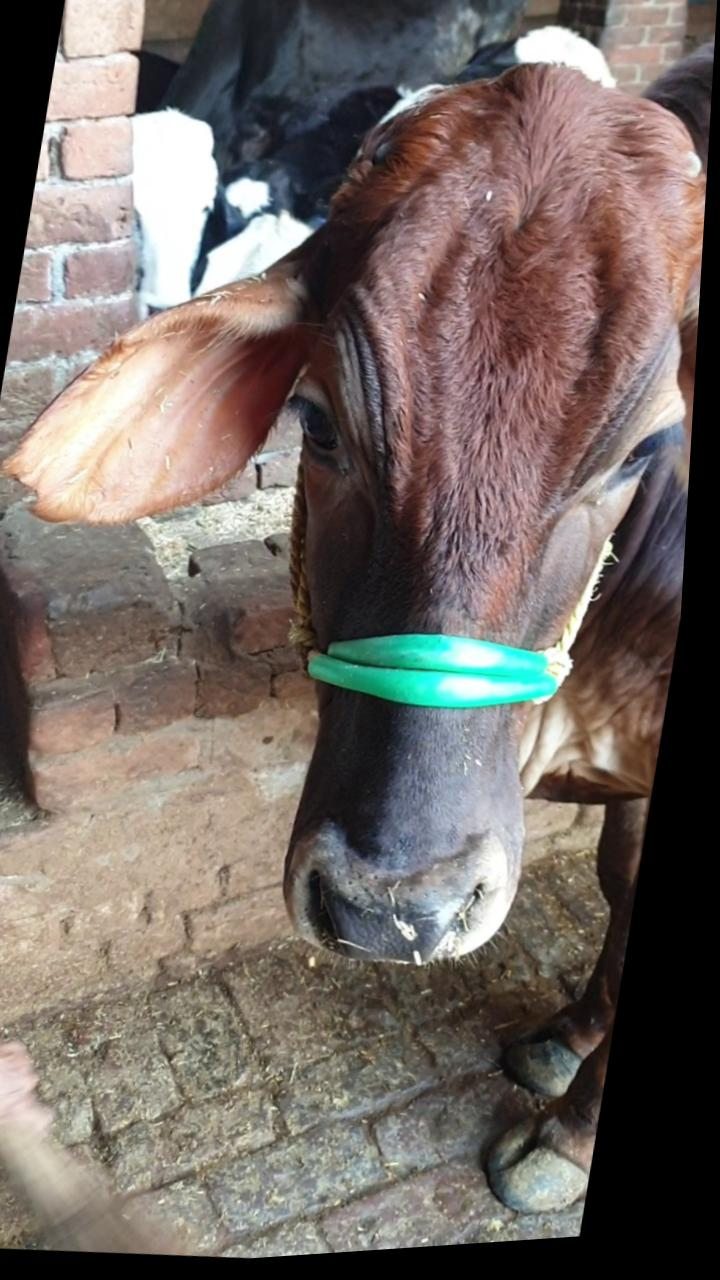cows: (140, 44, 716, 1020), (79, 91, 229, 330)
